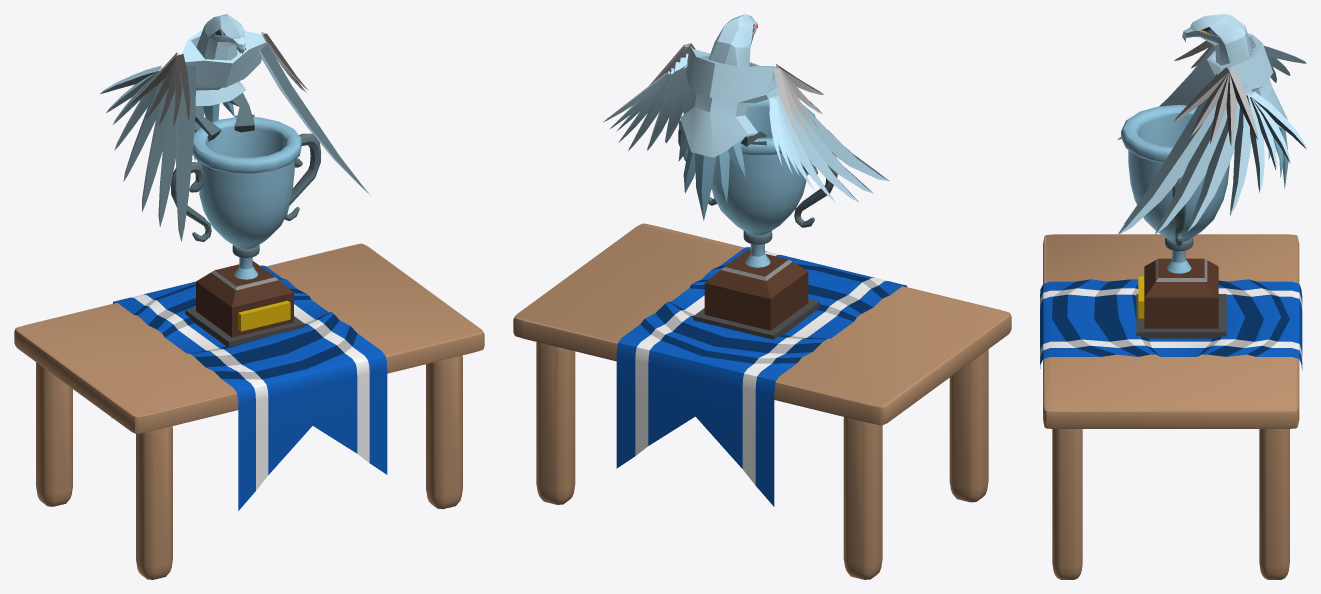
The model's file is l_trophy_silver.glb.
The picture shows the model from 3 angles, left to right: view 1: azimuth 30°, elevation 25°; view 2: azimuth 150°, elevation 25°; view 3: azimuth 270°, elevation 25°; orthographic projection. The views are drawn at different scales.
Visible parts, largest first — view 1: Trophy_Silver; view 2: Trophy_Silver; view 3: Trophy_Silver.
Part boxes in pixels (x1,y1,x2,y2): Trophy_Silver: [14, 14, 484, 579]; Trophy_Silver: [513, 14, 1011, 579]; Trophy_Silver: [1040, 14, 1306, 579].
Size of the model in its own units: 1.3 by 1.65 by 0.8224.
2 materials, 2 textured.
